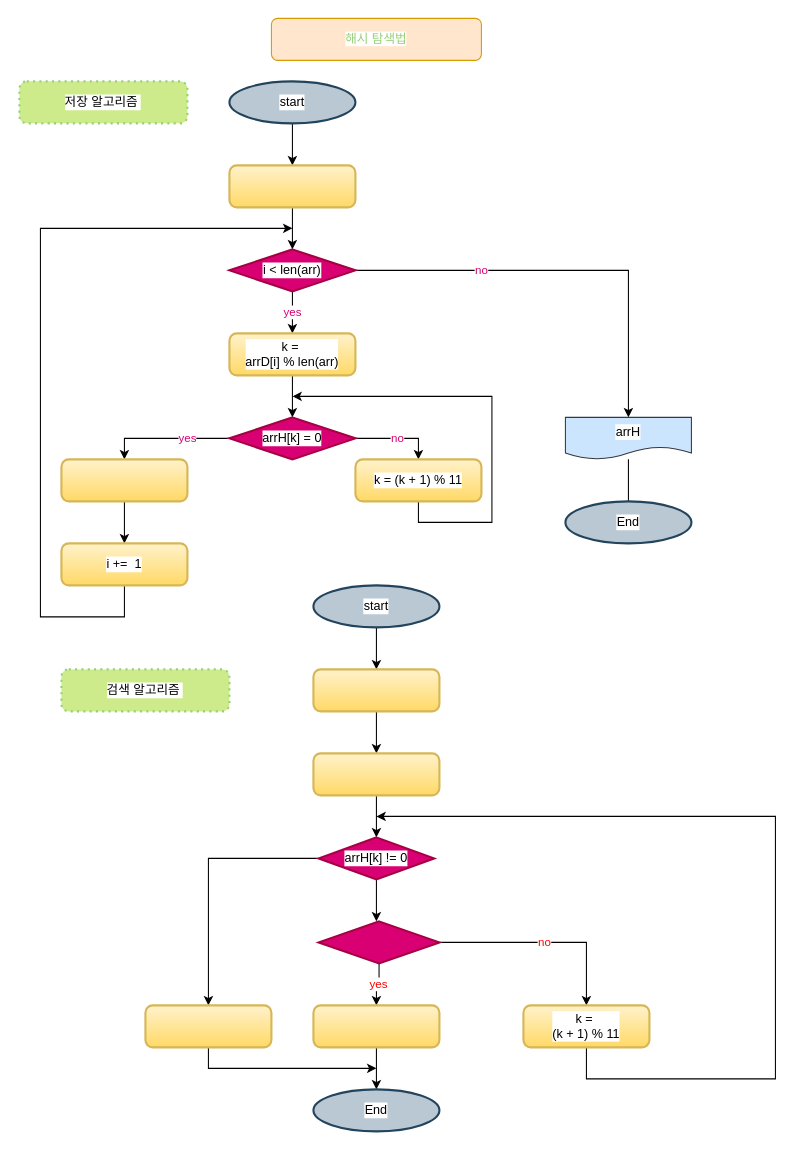
Some shapes in this 802 by 1151 pixel diagram are drawn without their labels. The shapes that lost their labels are listed below. From the top down, each one's centre as x and y in pixels, then its label:
pixel 292 186: i = 0
pixel 124 480: arrH[k] = arrD[i]
pixel 376 690: 찾을 값 x 입력
pixel 376 774: k = x % len(arr)
pixel 378 942: arrH[k] = x
pixel 208 1026: x가 없습니다
pixel 376 1026: 저장위치는 k번째 요소입니다
